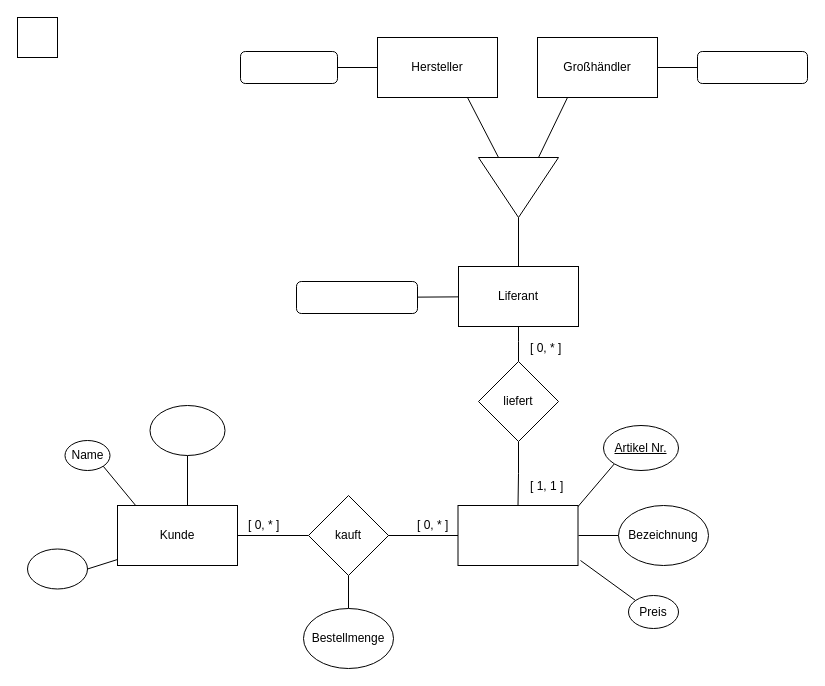
Some shapes in this 825 by 686 pixel diagram are drawn without their labels. The shapes that lost their labels are listed below. From the top down, each one's centre as x and y in pixels, then its label:
At [289,67]: "Hersteller Nr.".
At [752,67]: "Großhändler Nr.".
At [357,297]: "Vertrag: prod(int, int)".
At [187,430]: "Kunden Nr.".
At [517,535]: "Artikel".
At [57,568]: "Anschrift".
